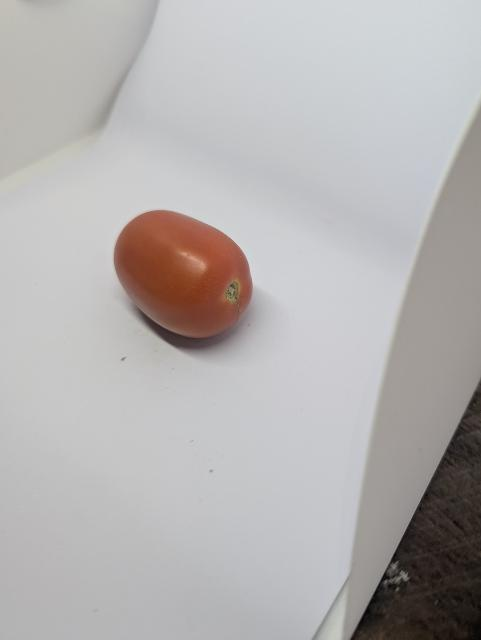red: (106, 202, 271, 343)
